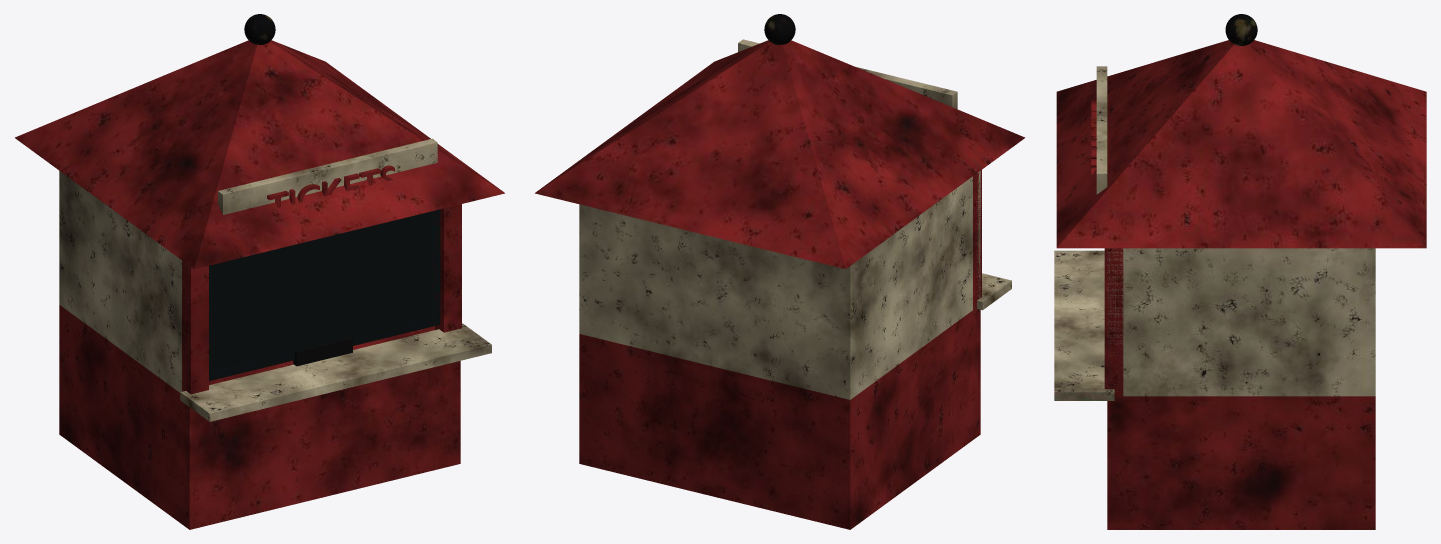
The model's file is booth.glb.
The picture shows the model from 3 angles, left to right: view 1: azimuth 30°, elevation 25°; view 2: azimuth 150°, elevation 25°; view 3: azimuth 270°, elevation 25°; orthographic projection. The views are drawn at different scales.
Parts seen in each view (by area): view 1: Main; view 2: Main; view 3: Main.
Boxes of the visible parts, left/top/right/bottom form: Main: left=15, top=14, right=504, bottom=529; Main: left=535, top=14, right=1024, bottom=529; Main: left=1054, top=14, right=1426, bottom=529.
Bounding box in the file's own units: 2.76 × 3.67 × 2.77.
Materials: 1 (1 with a texture image).
